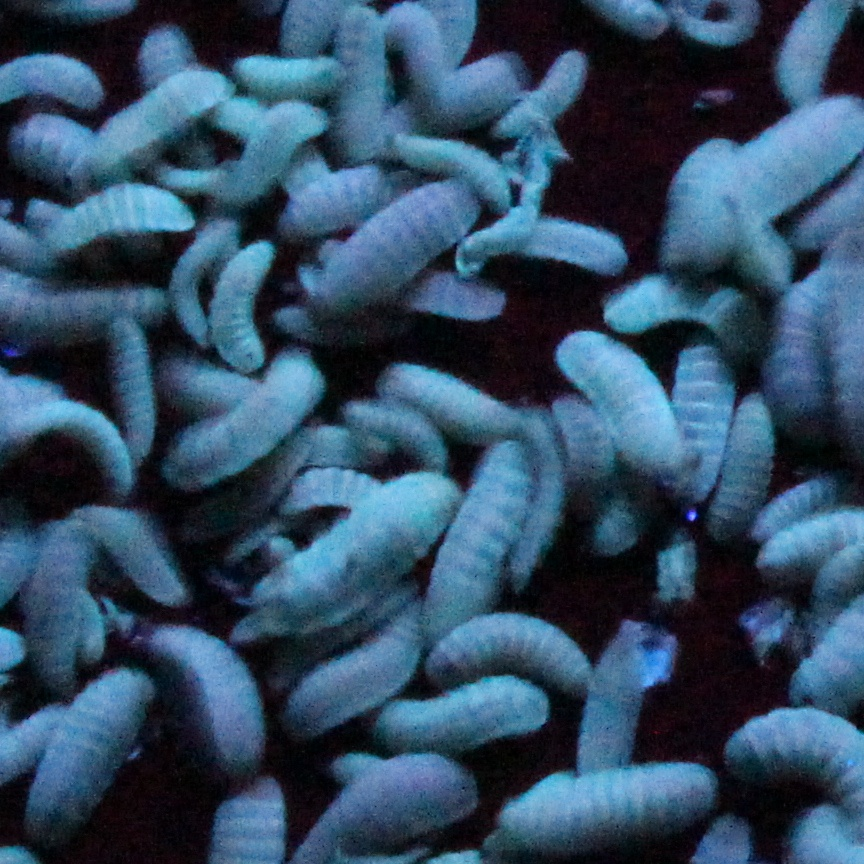larve: (239, 472, 461, 638), (311, 181, 478, 309), (32, 662, 147, 833), (427, 440, 532, 621), (289, 598, 430, 728), (173, 354, 318, 478), (558, 333, 690, 469), (151, 624, 275, 767), (501, 762, 715, 840), (92, 66, 227, 176), (378, 679, 551, 754), (428, 621, 599, 693), (380, 359, 523, 441), (42, 185, 196, 260), (37, 519, 92, 702), (704, 390, 771, 536), (392, 129, 516, 204), (108, 312, 166, 472), (90, 508, 179, 605), (499, 50, 584, 141), (671, 354, 721, 497), (211, 241, 268, 366), (228, 45, 346, 102), (748, 477, 835, 533)
